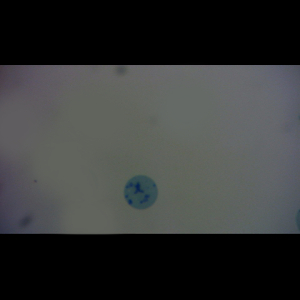aggregate reticulocyte: (122, 174, 159, 211)
